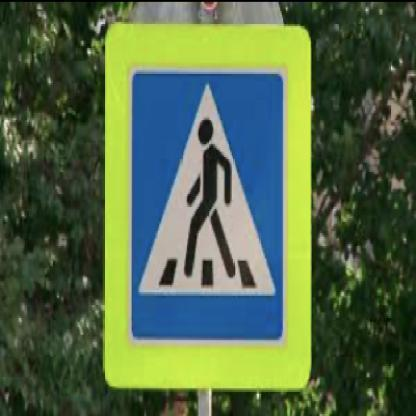crosswalk: (129, 66, 286, 340)
